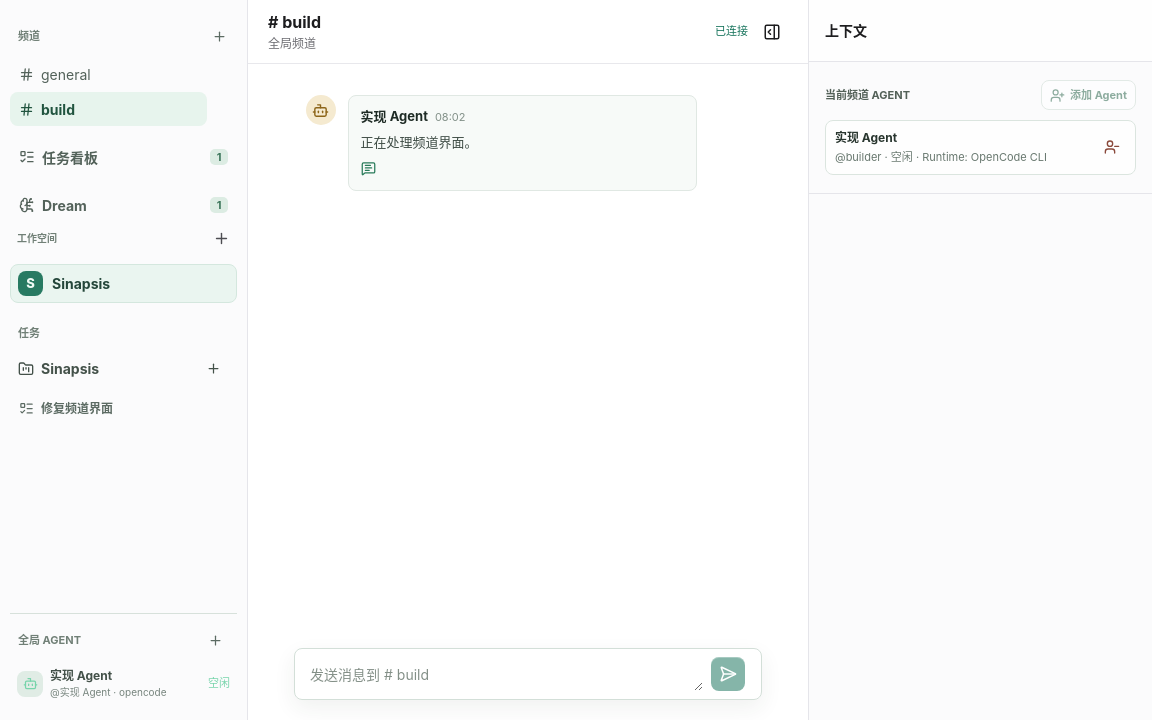
Test: WorkspaceShell › keeps the persisted channel selection while Dream Center is open and returns to a source message channel
Click the button with aria-label "Dream（1 个待确认）".
click(124, 205)  # box [10,188,237,222]
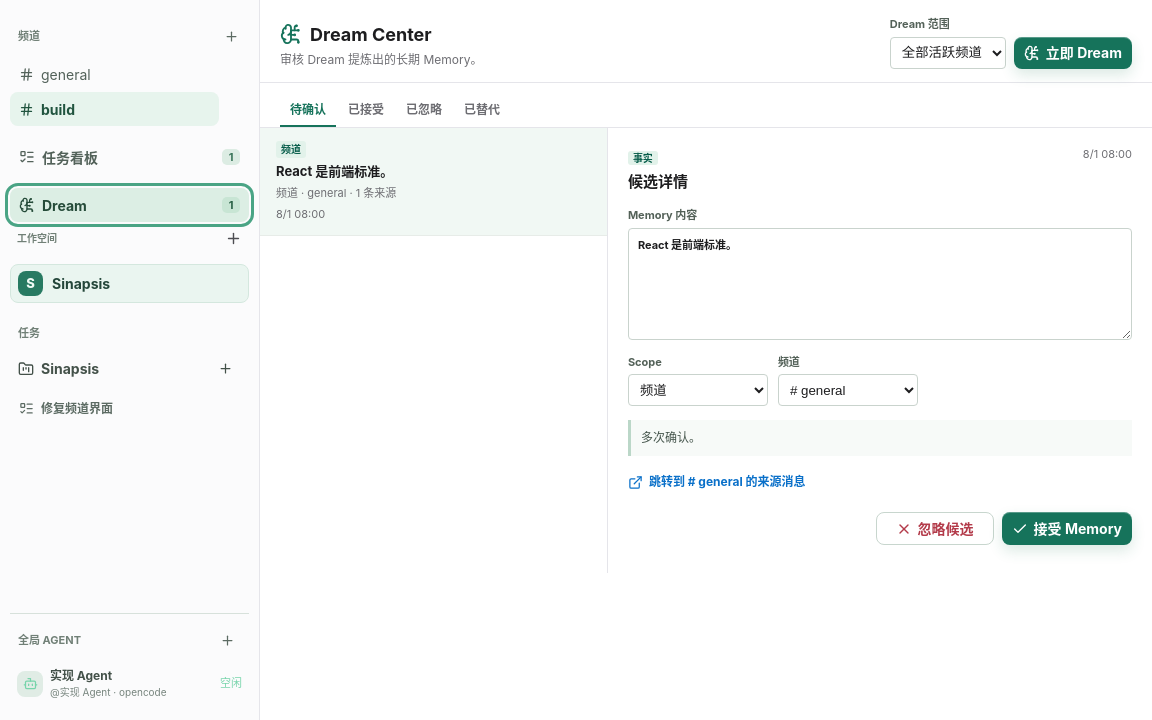
Check: the heading "Dream Center" is shown, box [310,20,432,48]
Click the button "跳转到 # general 的来源消息".
click(717, 482)  # box [628,470,806,494]
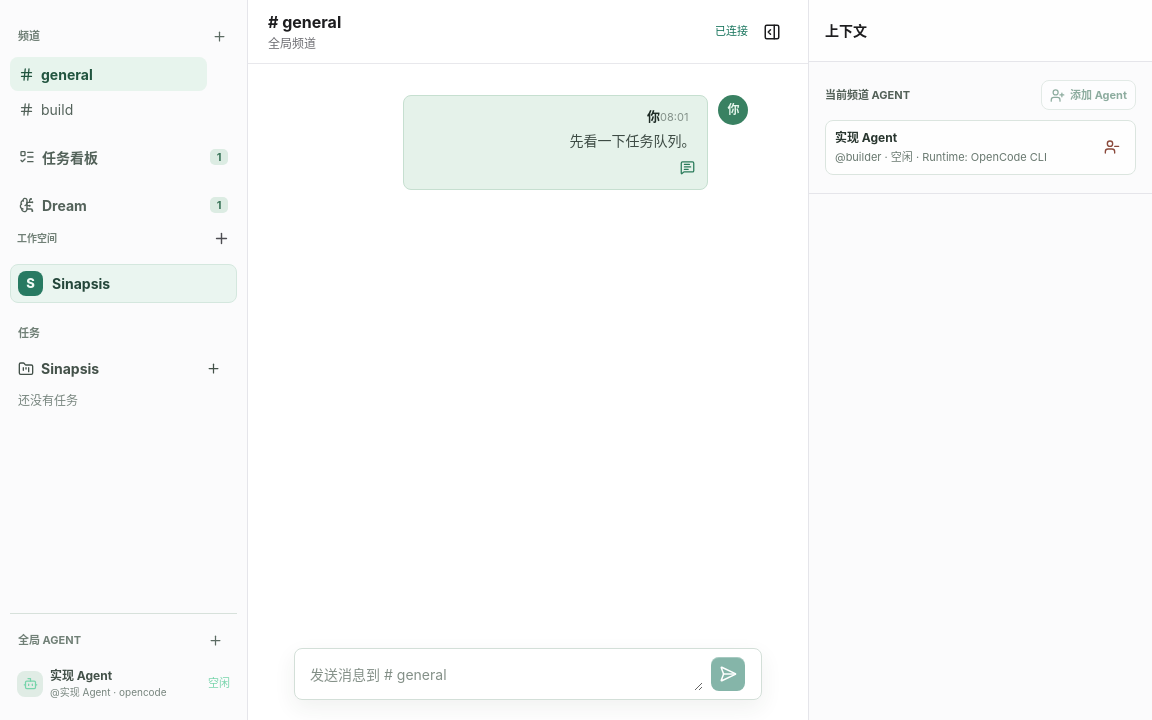
Check: the heading "# general" is shown, box [268,10,341,34]
Check: the text "先看一下任务队列。" is shown, box [569,132,695,148]
